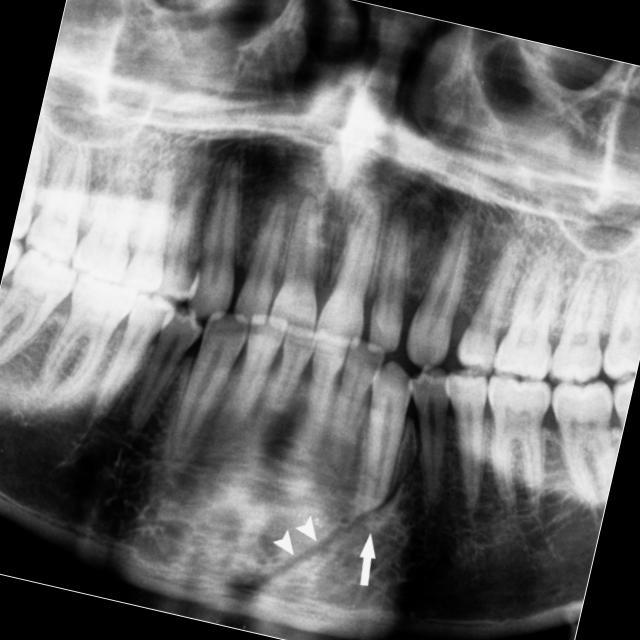Impact Fracture: (274, 494, 396, 576)
